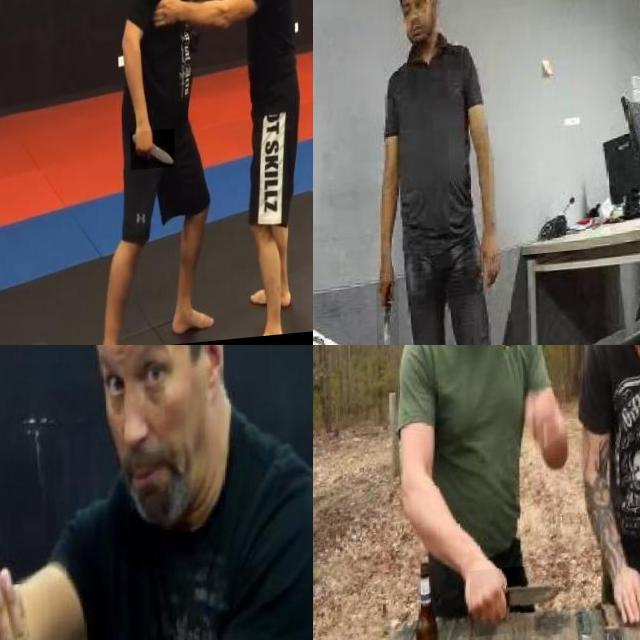-: (0, 461, 42, 640), (468, 568, 568, 640), (128, 134, 174, 177), (375, 285, 398, 345)
